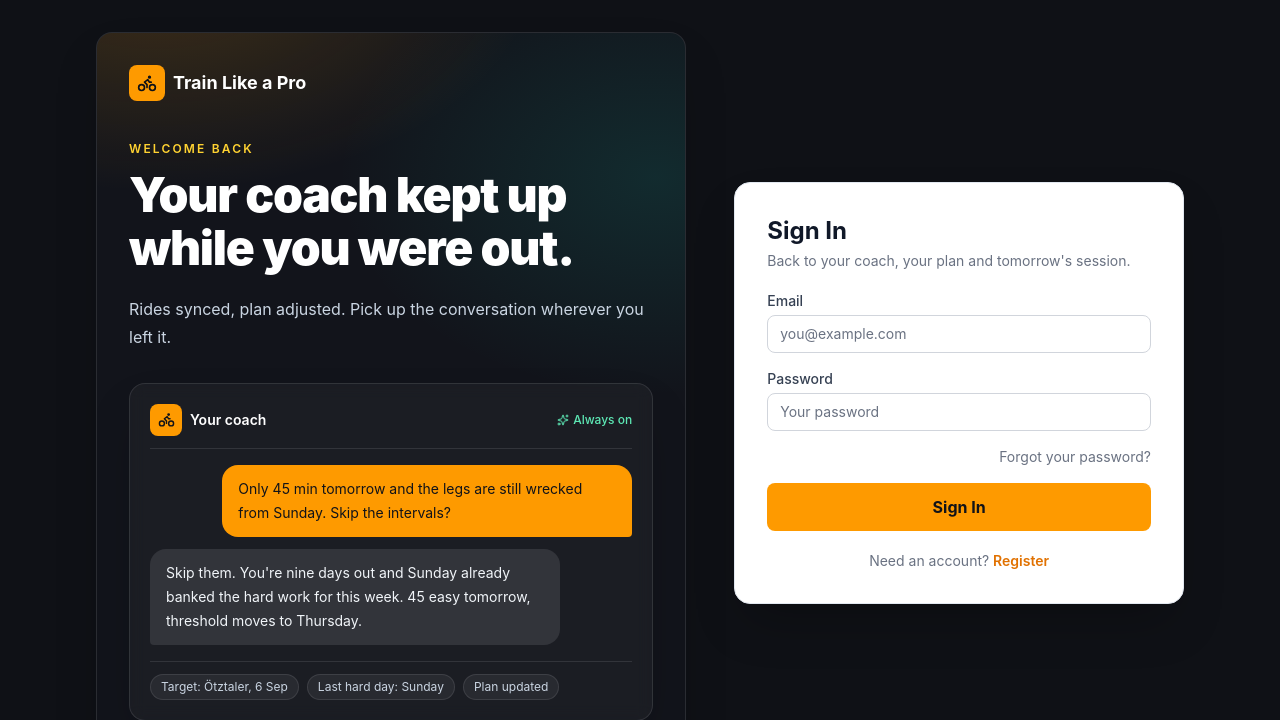
it: LoginPage › offers a new link when the address is not confirmed yet (app #687)
Type "new@example.com" into the field with placeholder "you@example.com". click: (959, 334)
box: [767, 315, 1151, 353]
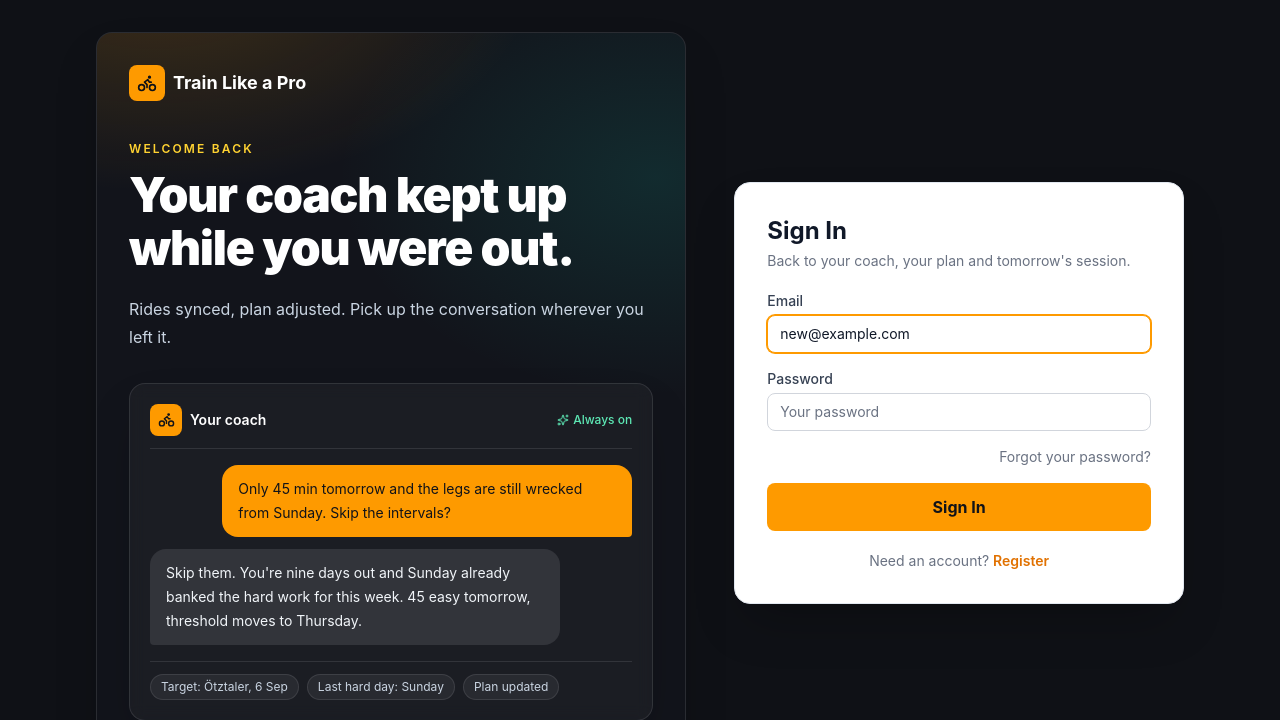
Type "password123" into the password field with placeholder "Your password". click: (959, 412)
box: [767, 393, 1151, 431]
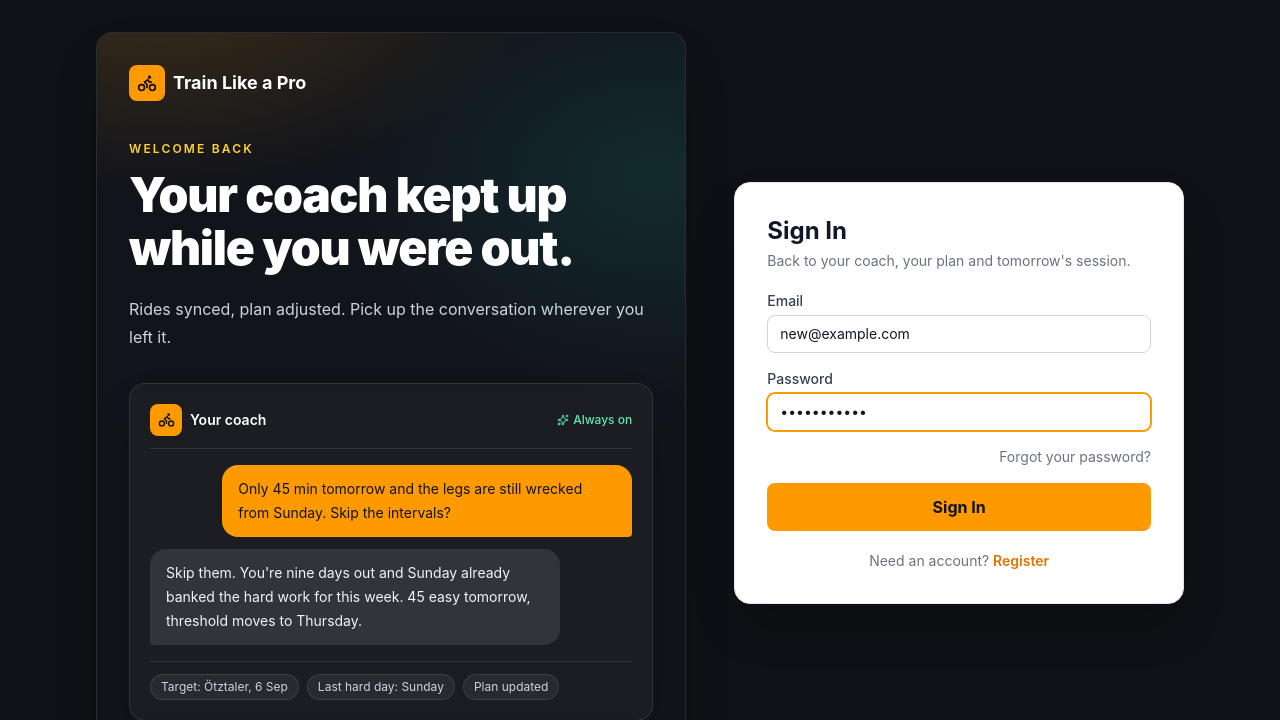
Click the button "Sign In". click: (959, 507)
box: [767, 483, 1151, 531]
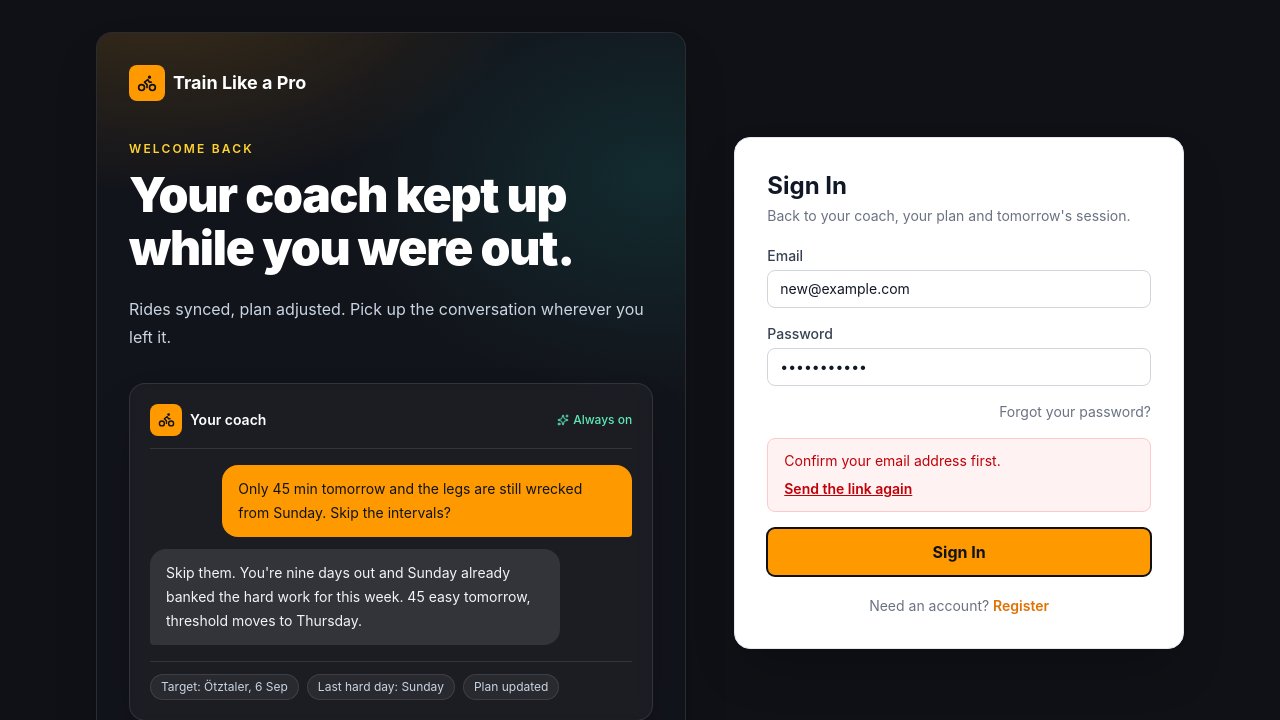
Click the button "Send the link again". click: (848, 489)
box: [784, 479, 912, 499]
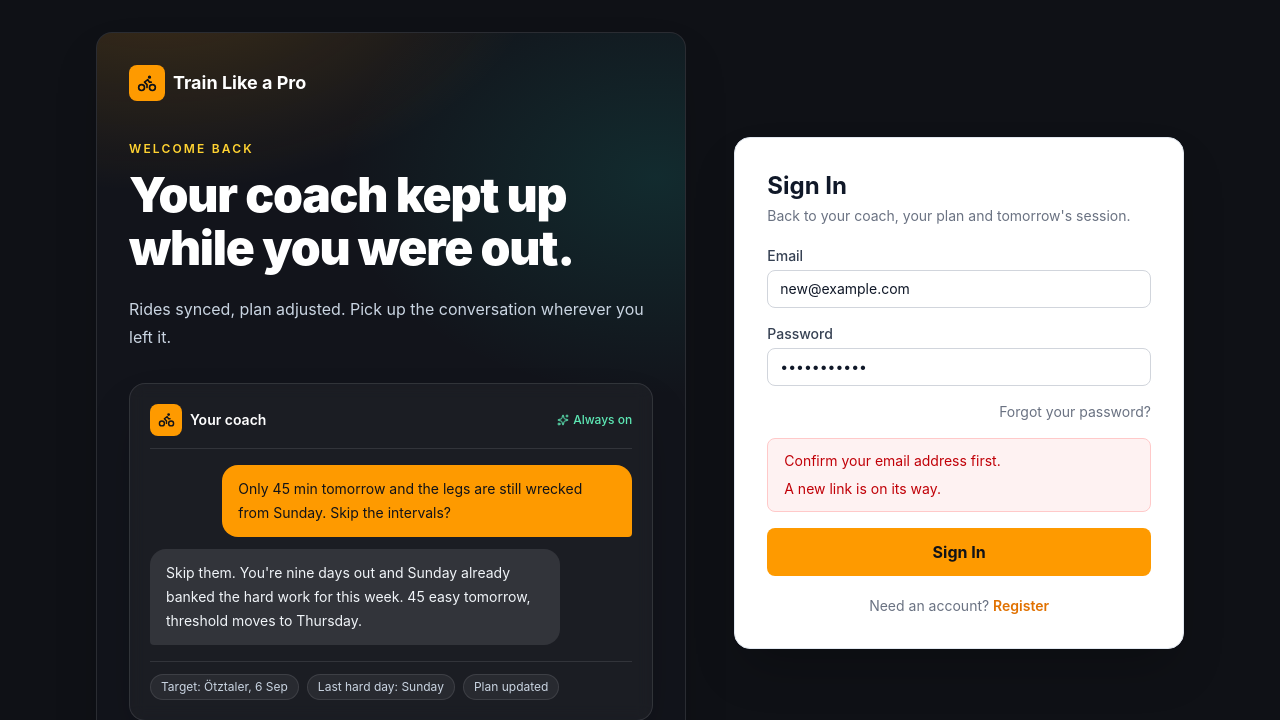
Expected: the text "A new link is on its way." is shown, [784, 480, 941, 497]
